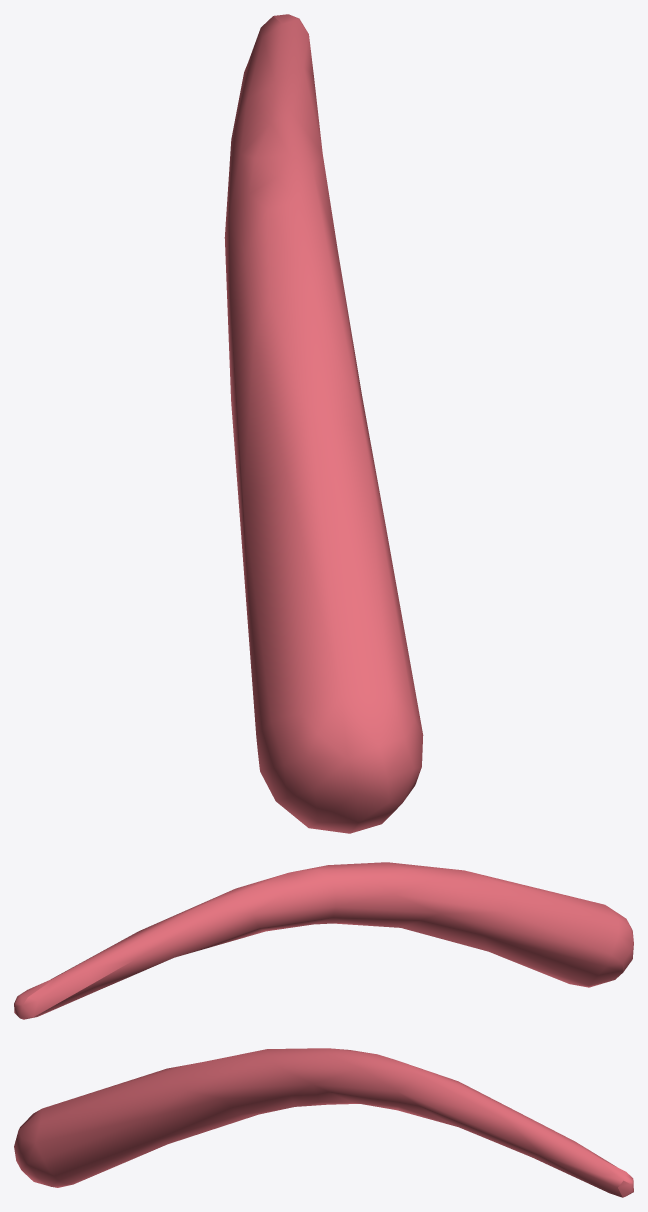
The model's file is fma13281_fj5982.glb.
3 renders of one model, top to bottom at view 1: azimuth 30°, elevation 25°; view 2: azimuth 150°, elevation 25°; view 3: azimuth 270°, elevation 25°, orthographic. The views are drawn at different scales.
Parts seen in each view (by area): view 1: FMA13281_FJ5982; view 2: FMA13281_FJ5982; view 3: FMA13281_FJ5982.
Boxes of the visible parts, x1,y1,x2,y2 form: FMA13281_FJ5982: (224, 14, 423, 833); FMA13281_FJ5982: (14, 862, 633, 1019); FMA13281_FJ5982: (14, 1048, 633, 1197).
Size of the model in its own units: 0.0122 by 0.00726 by 0.0217.
